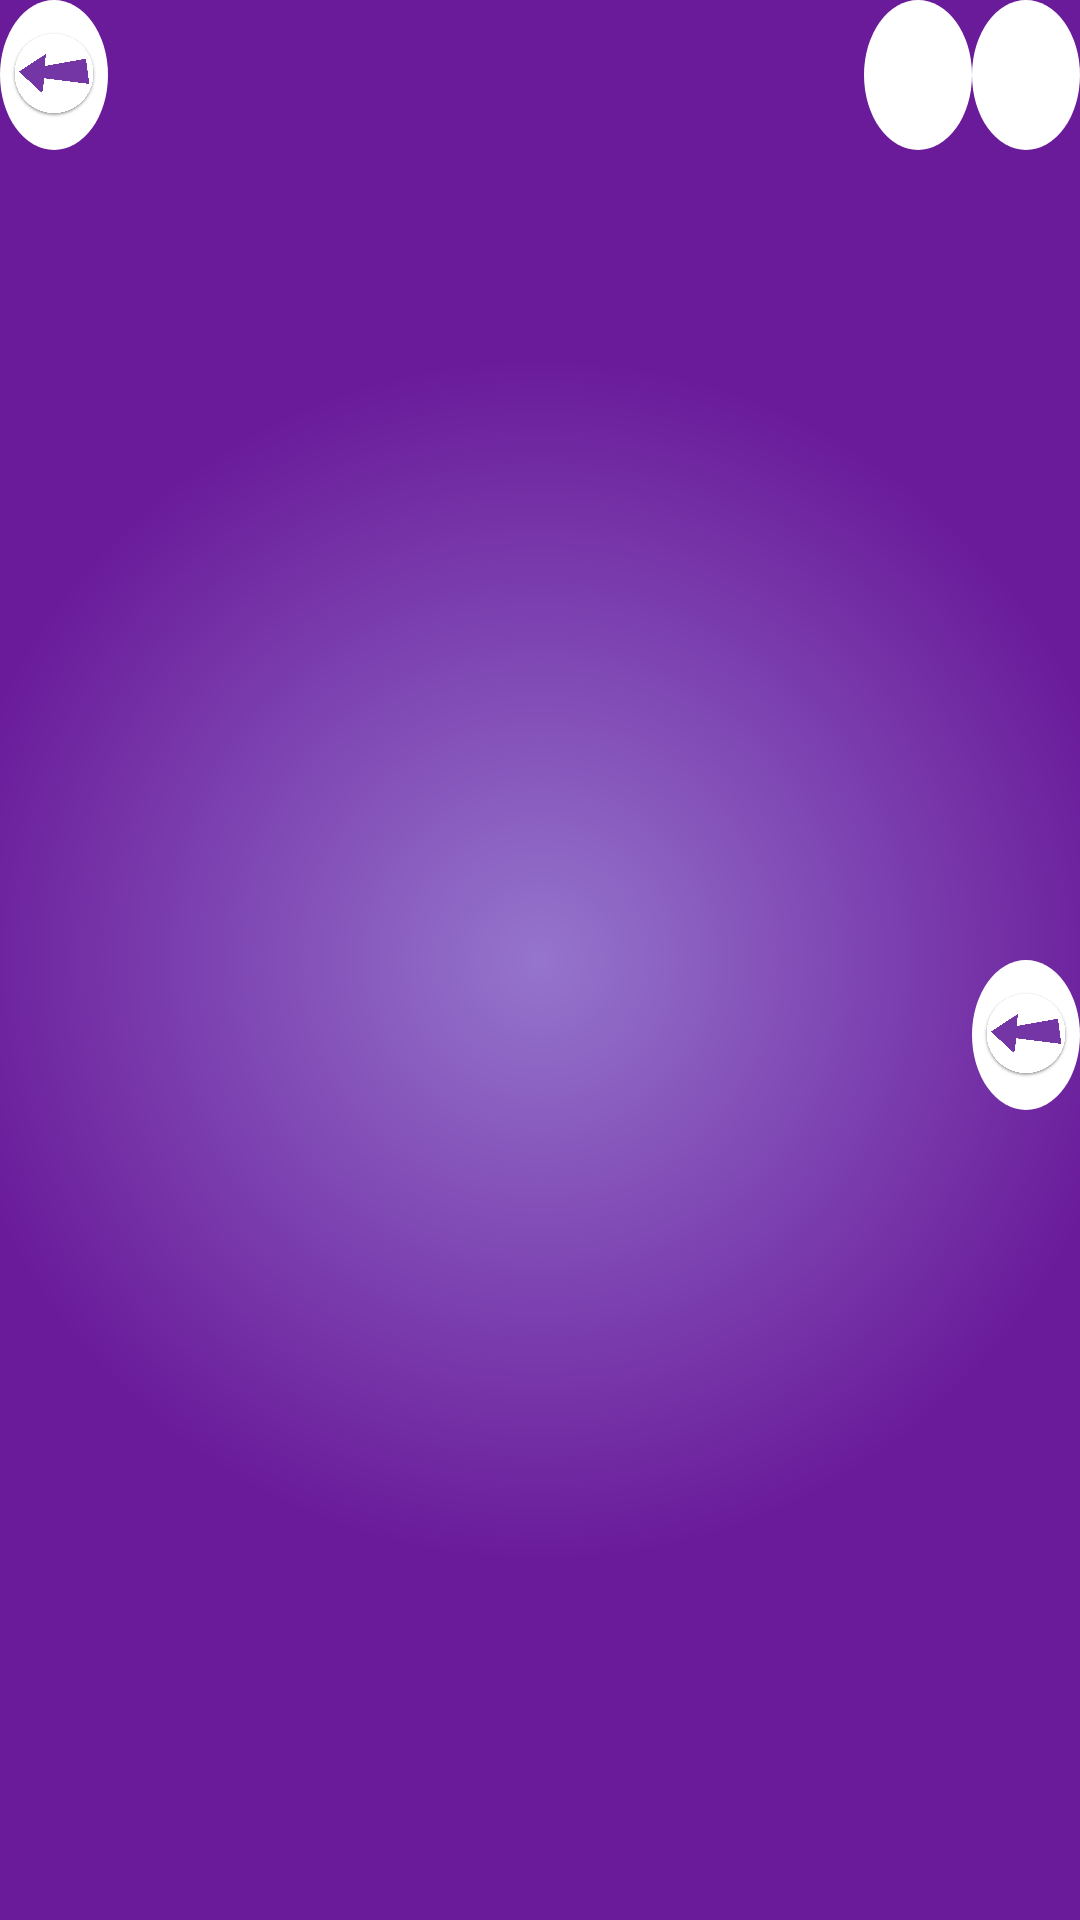

Locate icon controls on the screen. Image size 1080*1920, boxes as (x1, y1, x2, y2).
back arrow: (0, 0, 108, 150), (972, 960, 1080, 1110)
